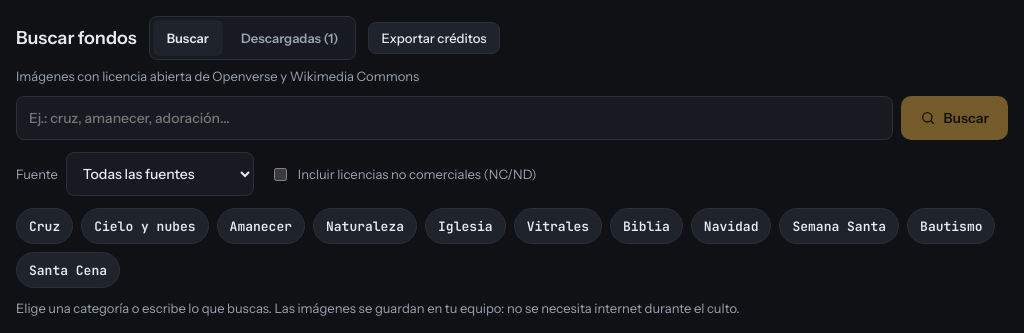
Scenario: ImageSearchPanel › lists downloaded images and removes them
Click the button "Descargadas (1)" at [290, 38], box [227,20,352,56]
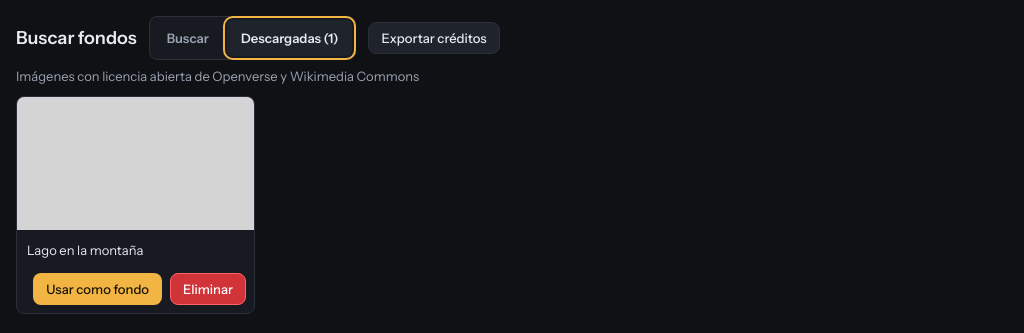
Click the button with aria-label "Eliminar Lago en la montaña" at [208, 289], box [170,273,246,305]
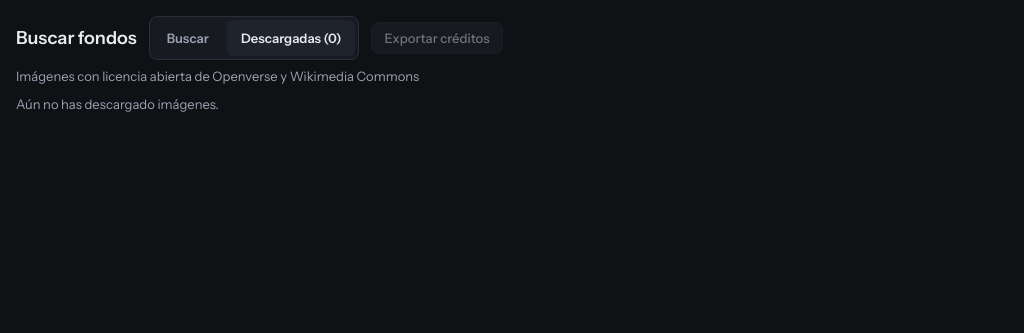
Expected: the text "Aún no has descargado imágenes." is shown, [16,96,219,112]
